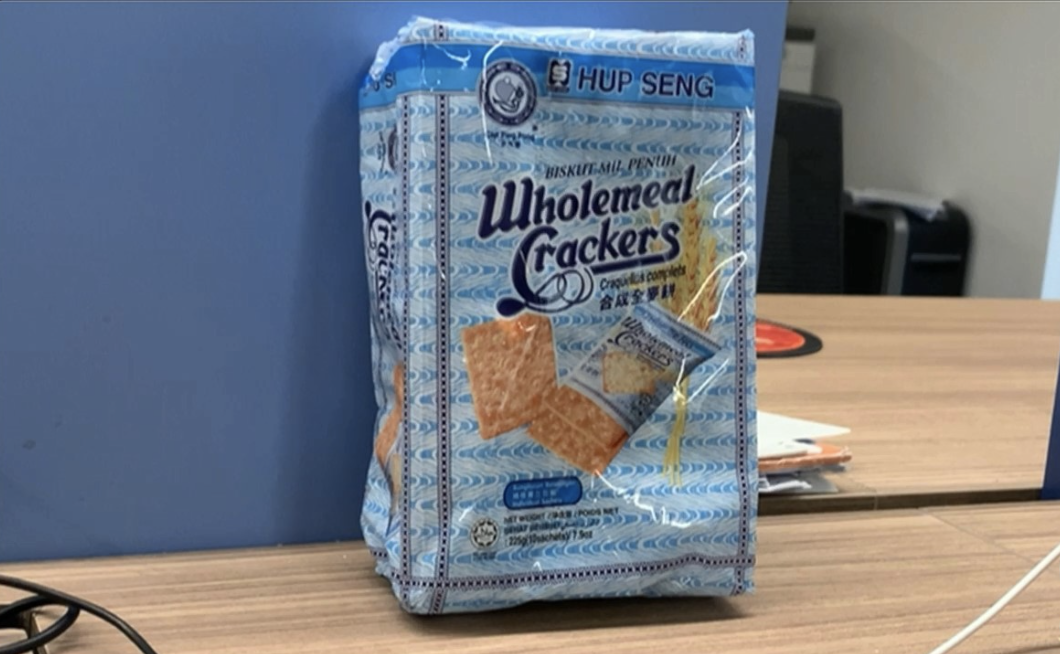crackers_150g: (451, 48, 741, 568)
